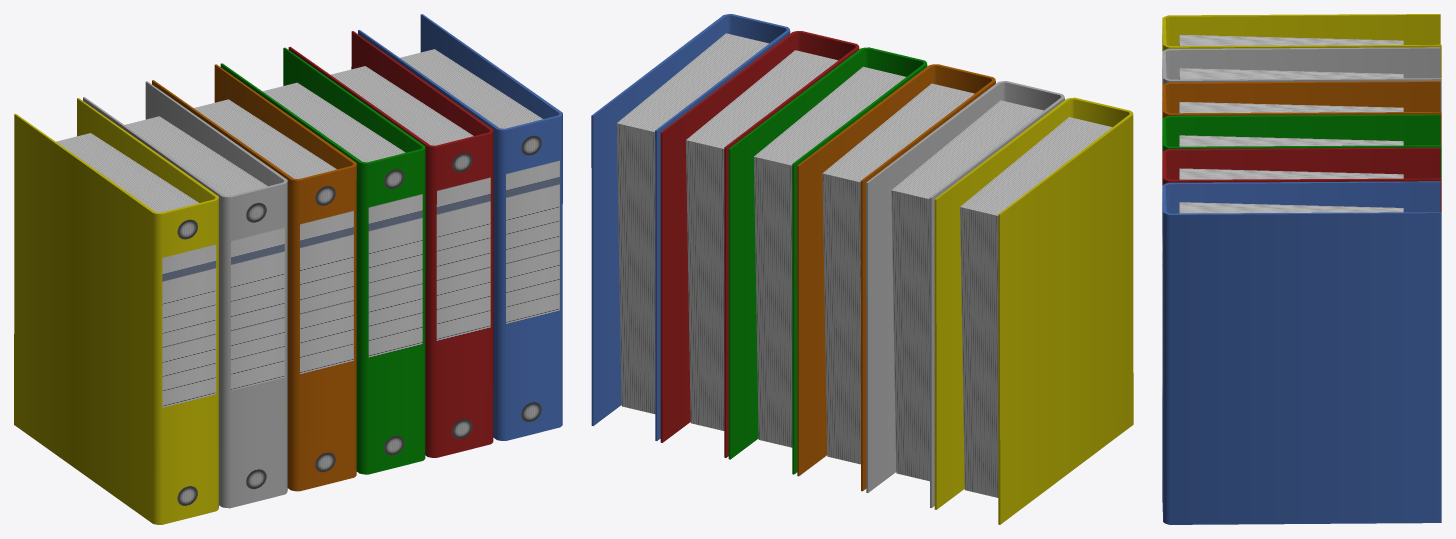
File: Office file binder.FBX
The picture shows the model from 3 angles, left to right: view 1: azimuth 30°, elevation 25°; view 2: azimuth 150°, elevation 25°; view 3: azimuth 270°, elevation 25°; orthographic projection.
Visible parts, largest first — view 1: Office file binder_001, Office file binder_006, Office file binder_003, Office file binder_004, Office file binder_002, Office file binder_005; view 2: Office file binder_001, Office file binder_006, Office file binder_003, Office file binder_004, Office file binder_002, Office file binder_005; view 3: Office file binder_006, Office file binder_002, Office file binder_005, Office file binder_003, Office file binder_001, Office file binder_004.
Part boxes in pixels (left/top/right/bottom): Office file binder_001: left=14, top=98, right=218, bottom=524; Office file binder_006: left=358, top=14, right=562, bottom=440; Office file binder_003: left=152, top=64, right=356, bottom=491; Office file binder_004: left=220, top=47, right=425, bottom=474; Office file binder_002: left=83, top=81, right=287, bottom=508; Office file binder_005: left=288, top=31, right=493, bottom=457; Office file binder_001: left=934, top=97, right=1133, bottom=524; Office file binder_006: left=591, top=14, right=790, bottom=440; Office file binder_003: left=797, top=64, right=995, bottom=491; Office file binder_004: left=728, top=47, right=927, bottom=474; Office file binder_002: left=866, top=81, right=1064, bottom=507; Office file binder_005: left=660, top=31, right=859, bottom=457; Office file binder_006: left=1162, top=181, right=1441, bottom=524; Office file binder_002: left=1162, top=47, right=1441, bottom=111; Office file binder_005: left=1162, top=147, right=1441, bottom=212; Office file binder_003: left=1162, top=81, right=1441, bottom=145; Office file binder_001: left=1162, top=14, right=1441, bottom=78; Office file binder_004: left=1162, top=114, right=1441, bottom=178.
Bounding box in the file's own units: 0.4454 × 0.3203 × 0.2617.
6 materials, 6 textured.
